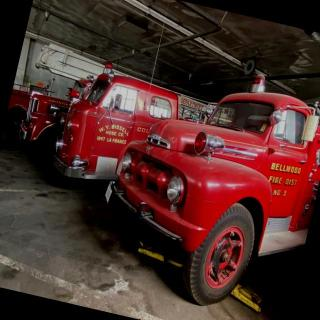Fire_truck: (85, 45, 320, 320), (45, 61, 196, 225), (9, 38, 134, 188)
